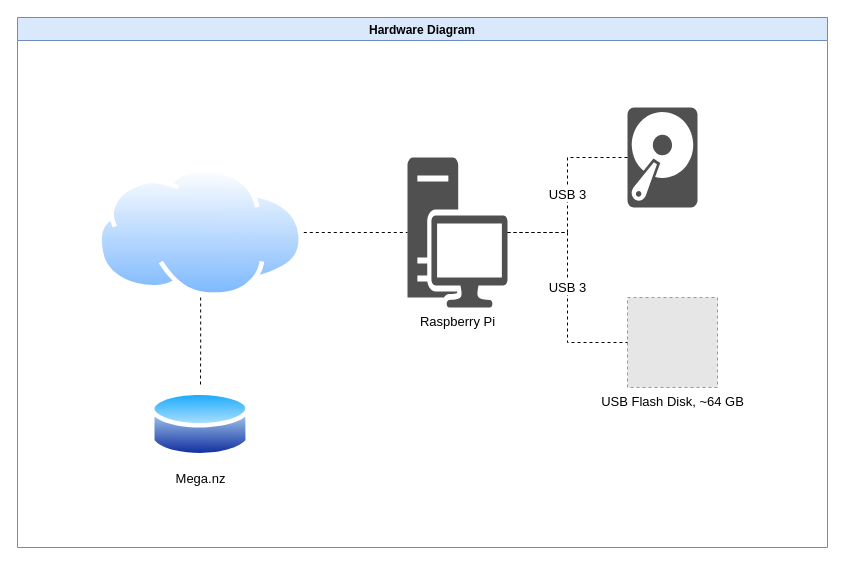
Some shapes in this 845 by 565 pixel diagram are drawn without their labels. Grey dashed boxes stand in for pictures. The centre of each missing label's shape, as x and y in pixels:
"Internet" belongs at point 200,232.
"M.2 SSD, ~240 GB" belongs at point 662,157.
